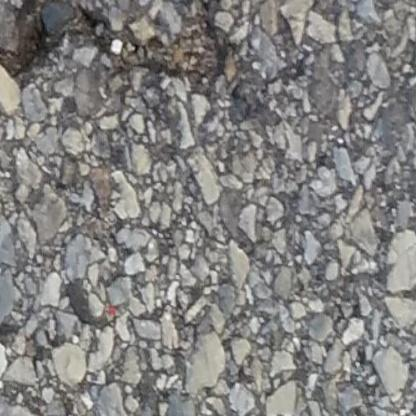Cracks: (0, 0, 225, 101)
